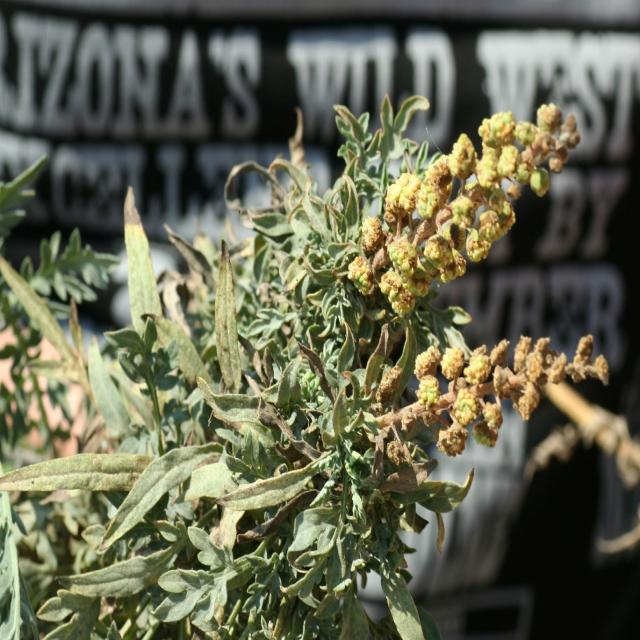ambrosia: (308, 91, 591, 305), (328, 285, 607, 495)
